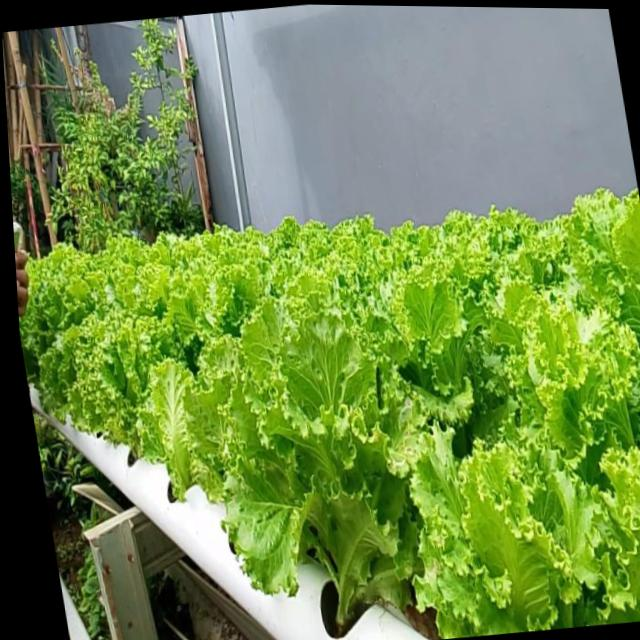Mature: (18, 196, 640, 640), (193, 312, 431, 640), (65, 311, 180, 472)
